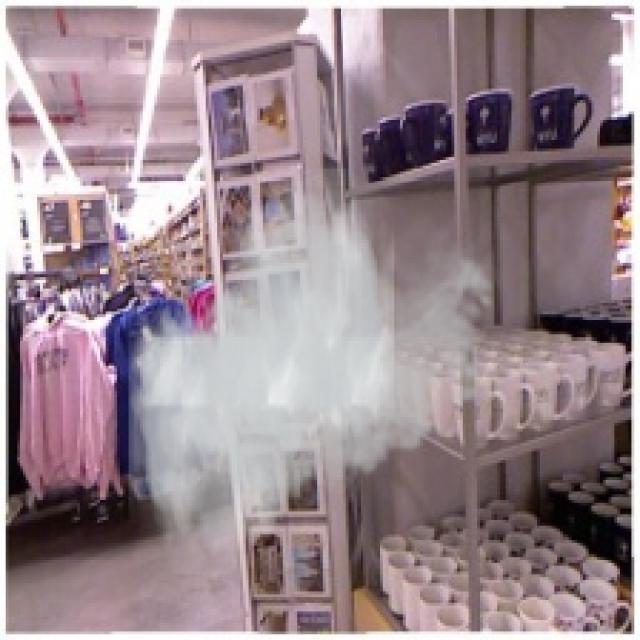Smoke: (128, 168, 506, 574)
